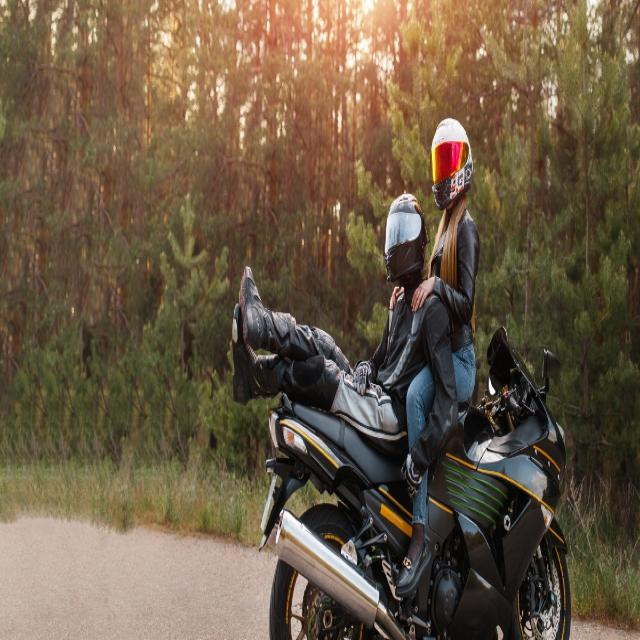MOTORCYCLE: (243, 390, 581, 640)
